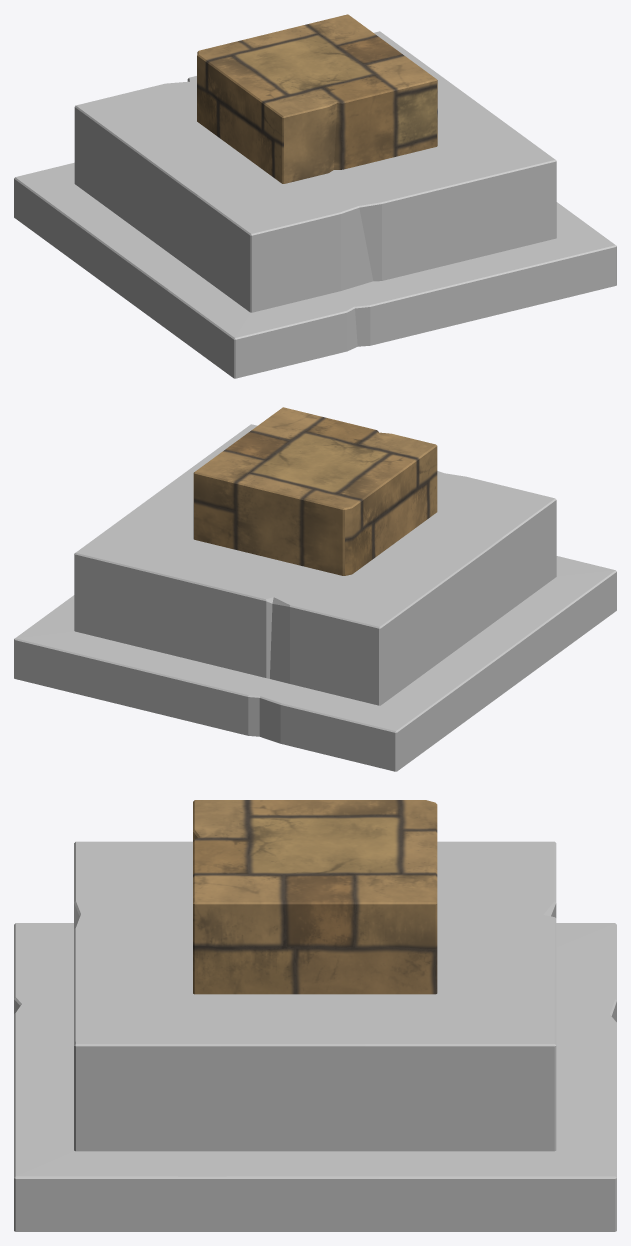
The model's file is PlatformStack2.fbx.
3 views of the same model, one above another, from view 1: azimuth 30°, elevation 25°; view 2: azimuth 150°, elevation 25°; view 3: azimuth 270°, elevation 25° (orthographic). The views are drawn at different scales.
Visible parts, largest first — view 1: PlatformStack2; view 2: PlatformStack2; view 3: PlatformStack2.
Part boxes in pixels (left/top/right/bottom): PlatformStack2: left=14, top=14, right=616, bottom=378; PlatformStack2: left=14, top=407, right=616, bottom=771; PlatformStack2: left=14, top=800, right=616, bottom=1231.
Size of the model in its own units: 500 by 232 by 500.
